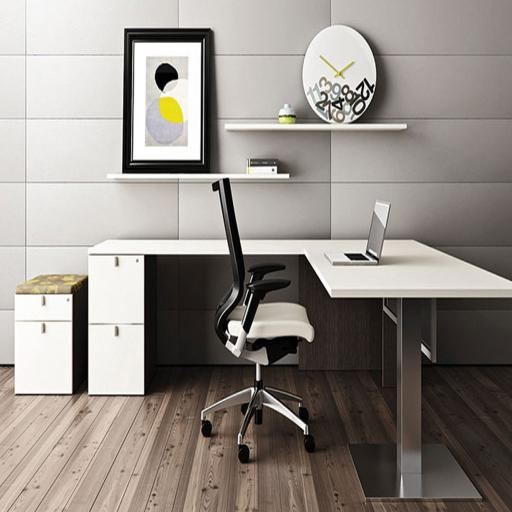chair: (200, 177, 316, 463)
desk: (87, 239, 512, 499)
wall: (0, 0, 512, 364)
